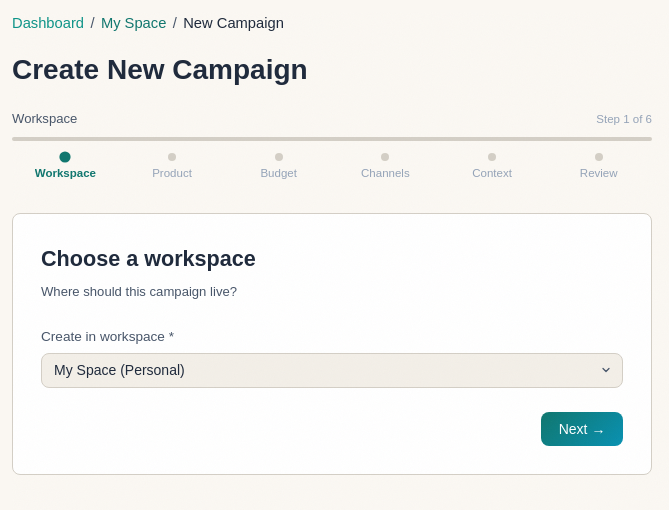
Test case: NewCampaign — workspace picker › shows workspace label with (Personal) suffix for personal workspace
The width and height of the screenshot is (669, 510).
Click the button named "create in workspace": (119, 370) 41,353 -> 623,388
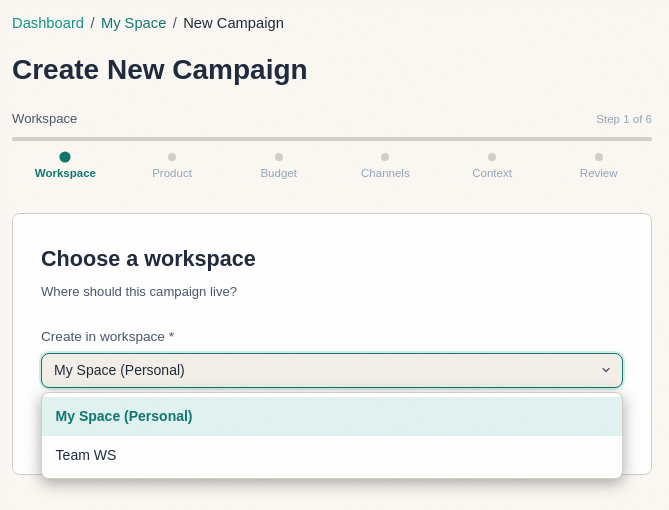
Expected: the option "My Space (Personal)" is shown, 42,397 -> 622,436
